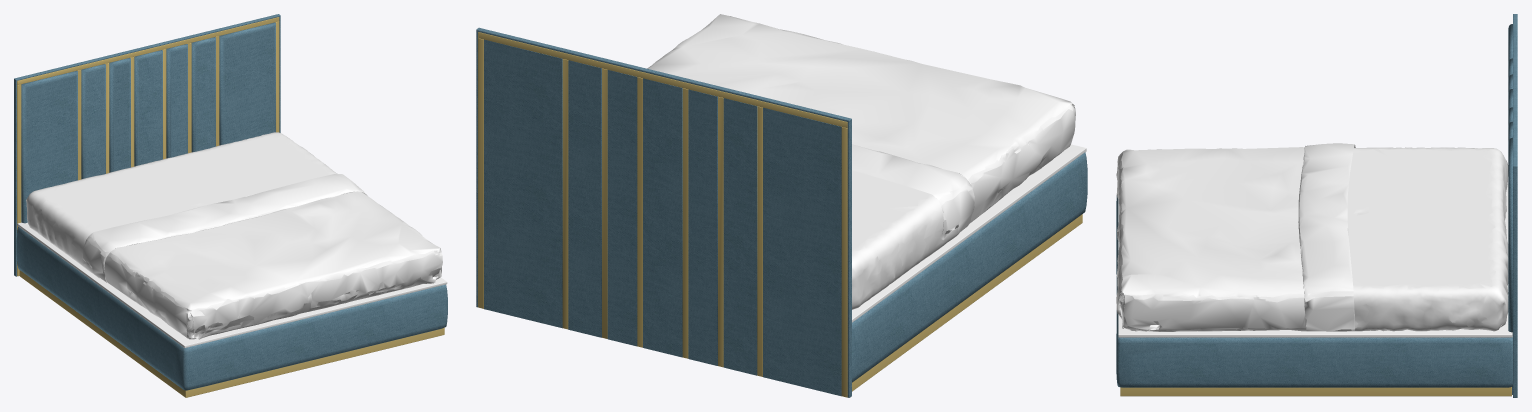
The model's file is bed1-var2.glb.
The picture shows the model from 3 angles, left to right: view 1: azimuth 30°, elevation 25°; view 2: azimuth 150°, elevation 25°; view 3: azimuth 270°, elevation 25°; orthographic projection. The views are drawn at different scales.
Parts seen in each view (by area): view 1: object 4, Object002_Selesta 2721_0, bauci_ovidio01_Selesta 2721_0, Kleo_Part_2_Kleo_6_72_0, object 8, Box296_NCS S 1502-Y50R semigloss_0, object 7, Object_Selesta 2721_0; view 2: Object002_Selesta 2721_0, object 4, object 8, bauci_ovidio01_Selesta 2721_0, Kleo_Part_2_Kleo_6_72_0, Object_Selesta 2721_0, Box296_NCS S 1502-Y50R semigloss_0, object 7; view 3: object 4, Kleo_Part_2_Kleo_6_72_0, bauci_ovidio01_Selesta 2721_0, object 7, Box296_NCS S 1502-Y50R semigloss_0, Object_Selesta 2721_0, Object002_Selesta 2721_0.
Part boxes in pixels (x1,y1,x2,y2): object 4: (82, 174, 442, 339); Object002_Selesta 2721_0: (21, 22, 275, 223); bauci_ovidio01_Selesta 2721_0: (16, 226, 447, 390); Kleo_Part_2_Kleo_6_72_0: (26, 132, 337, 279); object 8: (17, 17, 279, 276); Box296_NCS S 1502-Y50R semigloss_0: (17, 222, 447, 347); object 7: (19, 270, 444, 397); Object_Selesta 2721_0: (14, 14, 280, 276); Object002_Selesta 2721_0: (484, 39, 841, 396); object 4: (647, 14, 1075, 241); object 8: (478, 32, 847, 397); bauci_ovidio01_Selesta 2721_0: (852, 152, 1087, 382); Kleo_Part_2_Kleo_6_72_0: (852, 170, 959, 309); Object_Selesta 2721_0: (476, 27, 851, 397); Box296_NCS S 1502-Y50R semigloss_0: (852, 144, 1086, 322); object 7: (852, 214, 1082, 391); object 4: (1116, 143, 1355, 331); Kleo_Part_2_Kleo_6_72_0: (1326, 147, 1508, 331); bauci_ovidio01_Selesta 2721_0: (1116, 195, 1512, 387); object 7: (1120, 387, 1511, 396); Box296_NCS S 1502-Y50R semigloss_0: (1118, 184, 1512, 337); Object_Selesta 2721_0: (1513, 14, 1517, 397); Object002_Selesta 2721_0: (1508, 24, 1512, 394).
Size of the model in its own units: 1.91 by 1.35 by 2.12.
3 materials, 1 textured.
